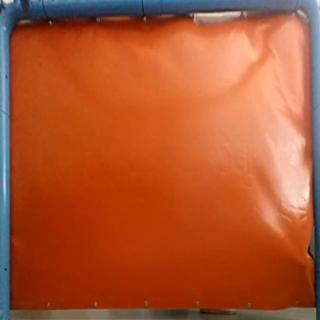Hit-hRxx: (291, 252, 312, 270)
